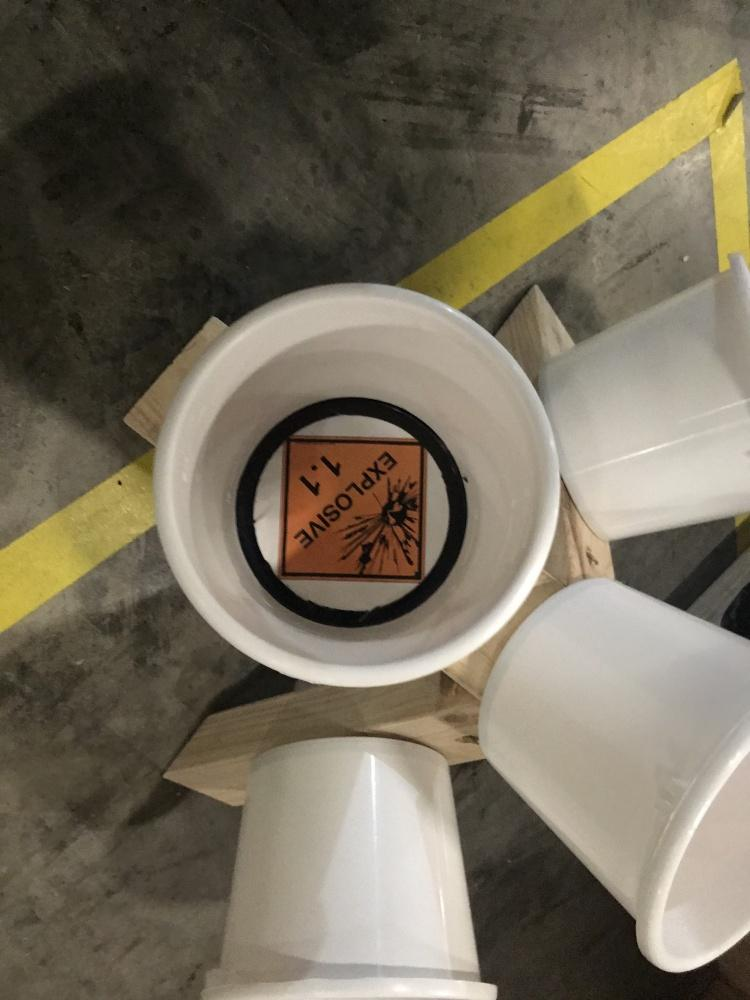explosive: (279, 435, 428, 587)
